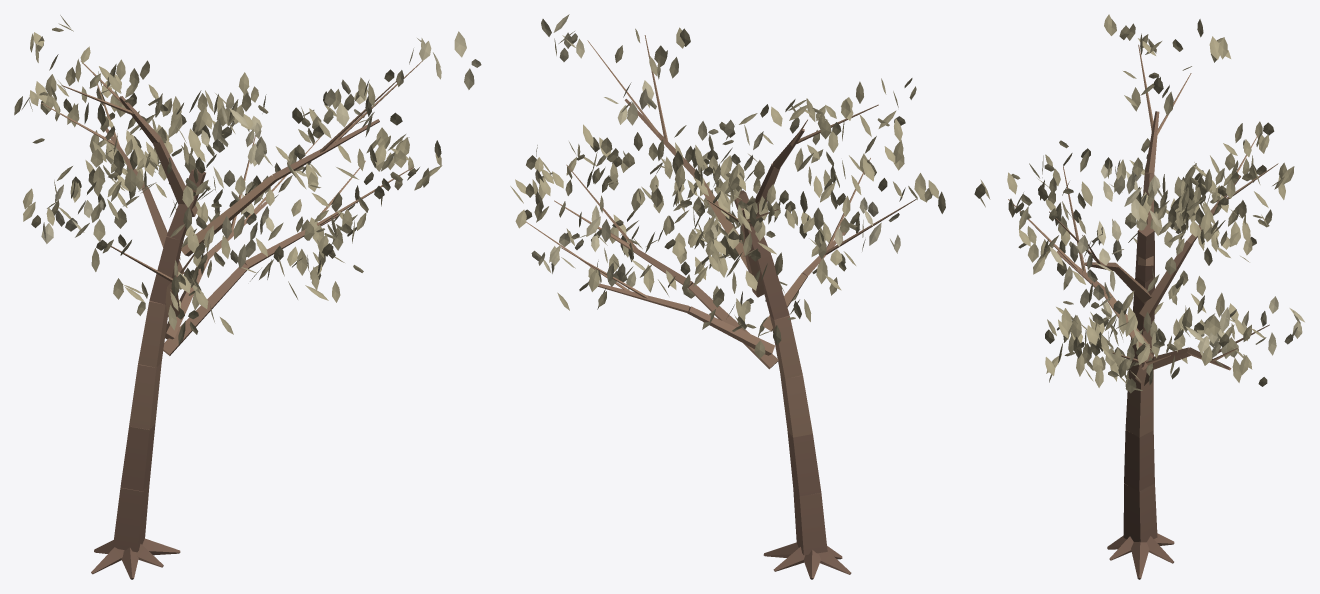
File: tree_3d_04_golden_beige.glb
3 views of the same model, side by side, from view 1: azimuth 30°, elevation 25°; view 2: azimuth 150°, elevation 25°; view 3: azimuth 270°, elevation 25° (orthographic). The views are drawn at different scales.
Parts seen in each view (by area): view 1: tree_3d_04_golden_beige_foliage, tree_3d_04_golden_beige_wood; view 2: tree_3d_04_golden_beige_foliage, tree_3d_04_golden_beige_wood; view 3: tree_3d_04_golden_beige_foliage, tree_3d_04_golden_beige_wood.
Part boxes in pixels (x1,y1,x2,y2): tree_3d_04_golden_beige_foliage: (14,15,481,344); tree_3d_04_golden_beige_wood: (41,61,422,579); tree_3d_04_golden_beige_foliage: (510,14,945,358); tree_3d_04_golden_beige_wood: (526,35,916,579); tree_3d_04_golden_beige_foliage: (974,14,1304,393); tree_3d_04_golden_beige_wood: (1008,44,1278,579).
Size of the model in its own units: 9.4 by 11.5 by 6.8.
